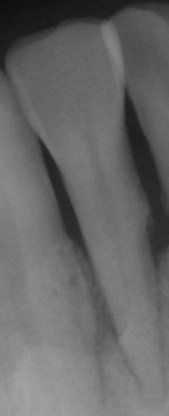tooth: (4, 17, 167, 404)
